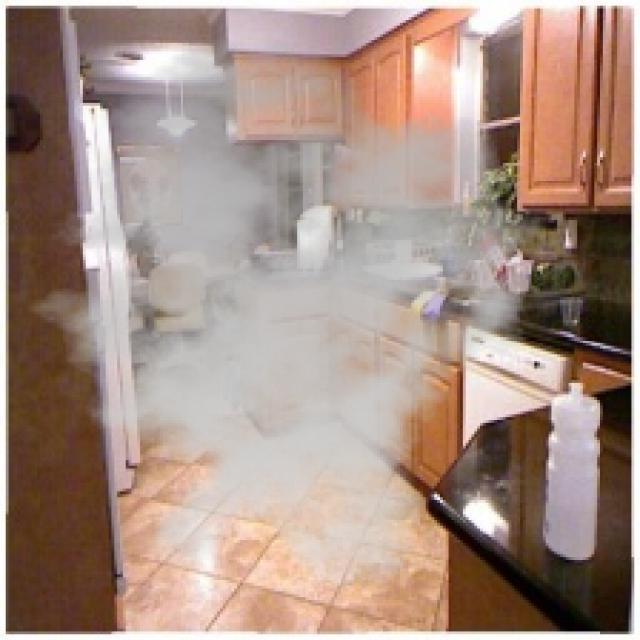Smoke: (3, 37, 560, 594)
